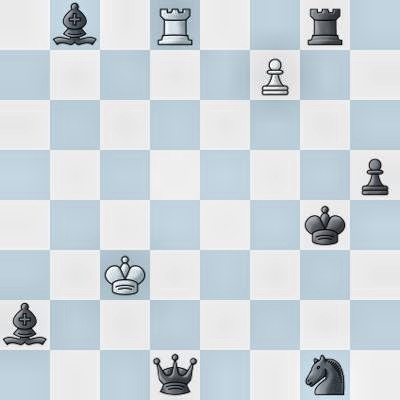black-bishop: (50, 0, 100, 50), (0, 300, 50, 350)
black-king: (300, 200, 350, 250)
black-knight: (300, 350, 350, 400)
black-pawn: (350, 150, 400, 200)
black-queen: (150, 350, 200, 400)
black-rook: (300, 0, 350, 50)
white-king: (100, 250, 150, 300)
white-pawn: (250, 50, 300, 100)
white-rook: (150, 0, 200, 50)
